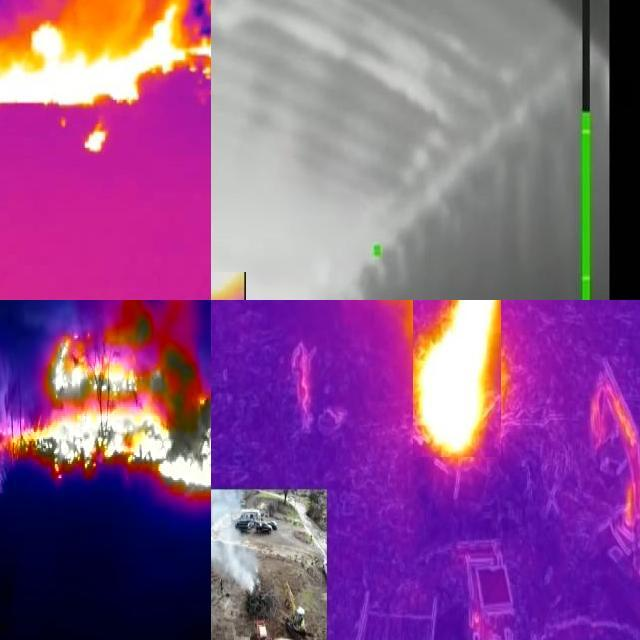fire: (7, 301, 212, 493), (1, 1, 212, 156), (414, 301, 502, 458)
